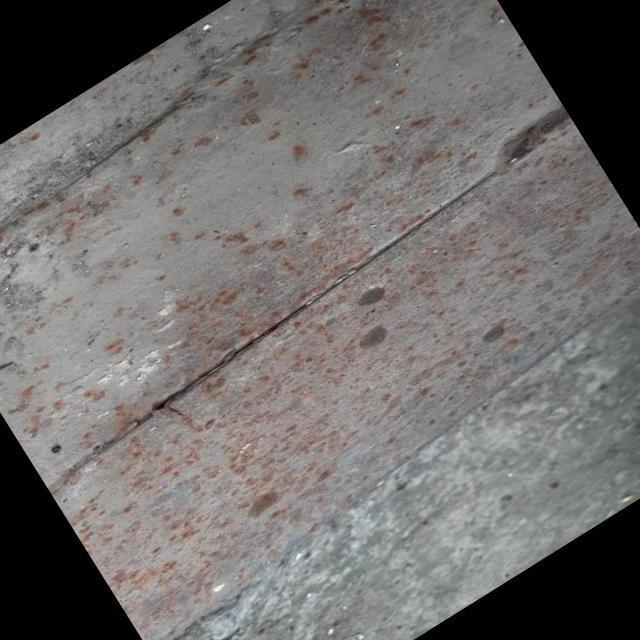defect: (138, 287, 331, 422)
